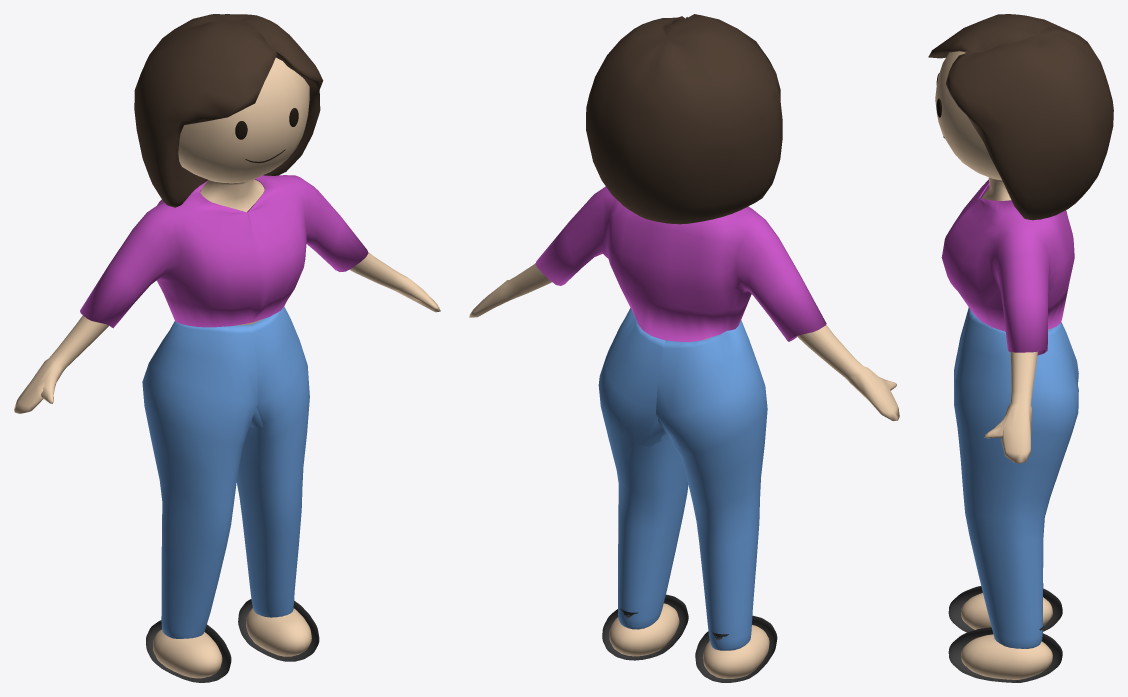
Rendered from default character.fbx.
3 renders of one model, left to right at view 1: azimuth 30°, elevation 25°; view 2: azimuth 150°, elevation 25°; view 3: azimuth 270°, elevation 25°, orthographic.
Parts seen in each view (by area): view 1: body; view 2: body; view 3: body.
Boxes of the visible parts, box(x1,y1,x2,y2) form: body: box(14, 14, 440, 682); body: box(469, 14, 899, 682); body: box(928, 14, 1113, 682).
Bounding box in the file's own units: 151 × 217 × 57.64.
